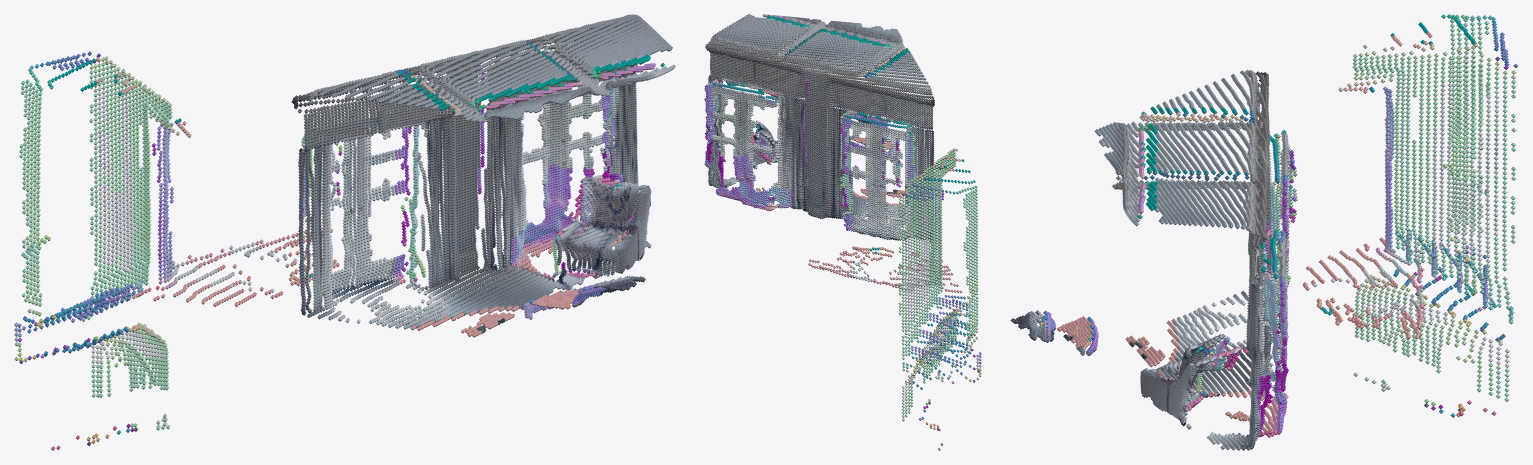
File: combine_gt.glb
3 renders of one model, left to right at view 1: azimuth 30°, elevation 25°; view 2: azimuth 150°, elevation 25°; view 3: azimuth 270°, elevation 25°, orthographic. The views are drawn at different scales.
Visible parts, largest first — view 1: world; view 2: world; view 3: world.
Boxes of the visible parts, left/top/right/bottom form: world: left=14, top=14, right=675, bottom=450; world: left=704, top=14, right=981, bottom=450; world: left=1010, top=14, right=1517, bottom=450.
Size of the model in its own units: 6.52 by 5.05 by 5.61.
